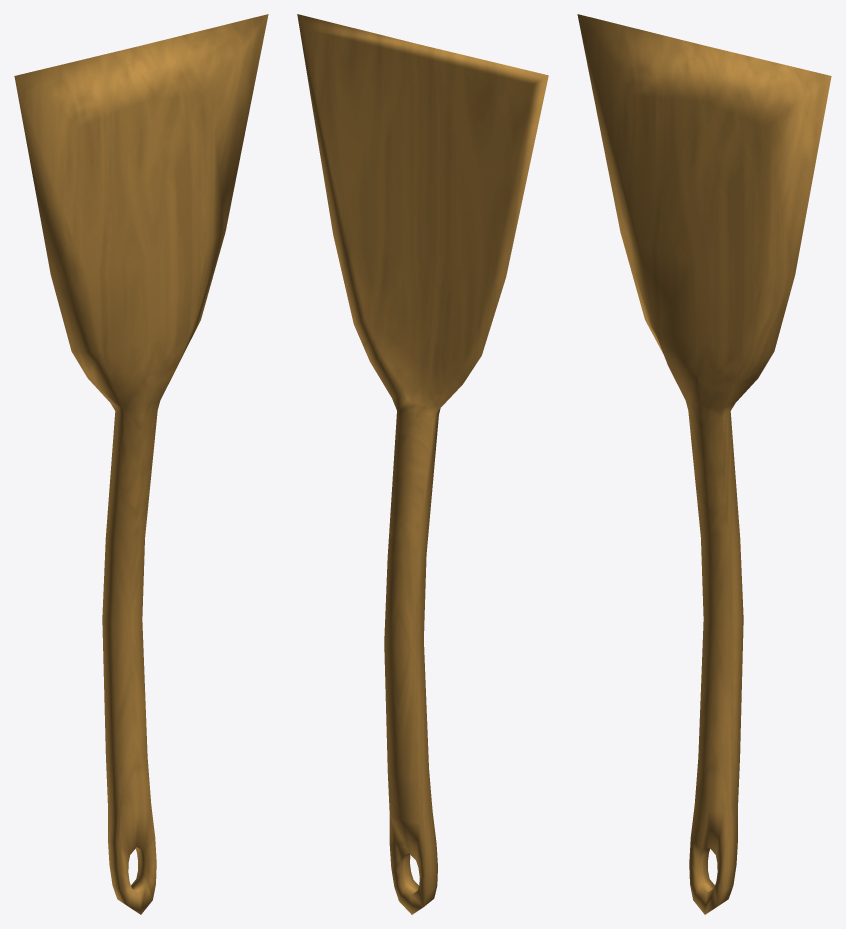
File: ustensils1.glb
The picture shows the model from 3 angles, left to right: view 1: azimuth 30°, elevation 25°; view 2: azimuth 150°, elevation 25°; view 3: azimuth 330°, elevation 25°; orthographic projection.
Visible parts, largest first — view 1: ustensils1; view 2: ustensils1; view 3: ustensils1.
Boxes of the visible parts, x1,y1,x2,y2 form: ustensils1: (14,14,268,914); ustensils1: (297,14,548,914); ustensils1: (577,14,831,914).
Size of the model in its own units: 0.1932 by 0.6326 by 0.0459.
1 material, 1 textured.
